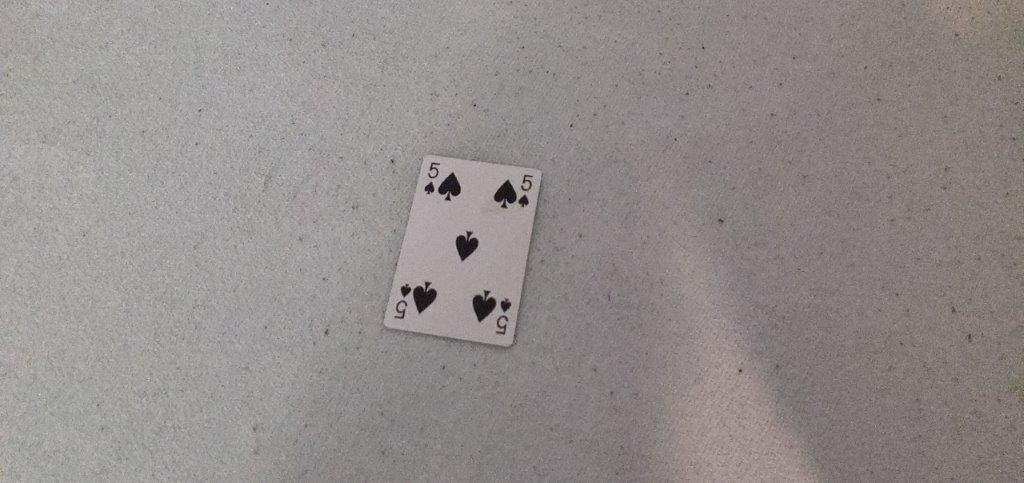5S: (516, 172, 535, 212), (423, 161, 441, 198)
